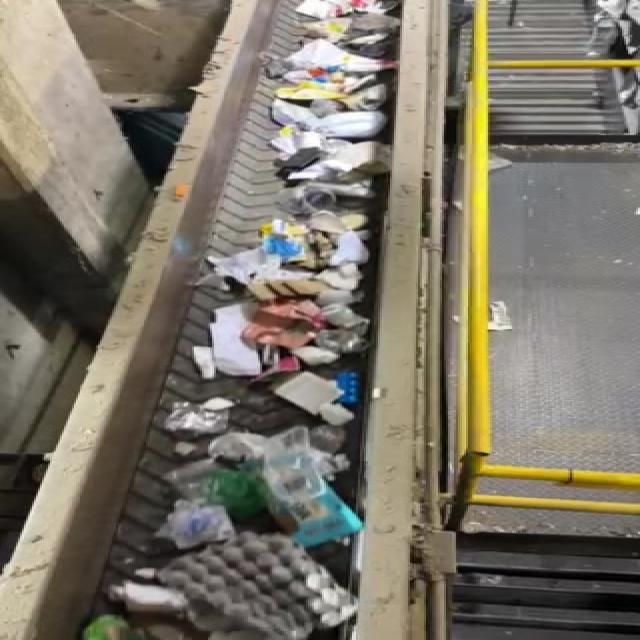paper: (265, 367, 345, 425)
pp: (250, 430, 367, 534), (148, 490, 236, 541), (165, 396, 243, 447), (333, 367, 379, 417)
ps: (154, 533, 364, 640)
